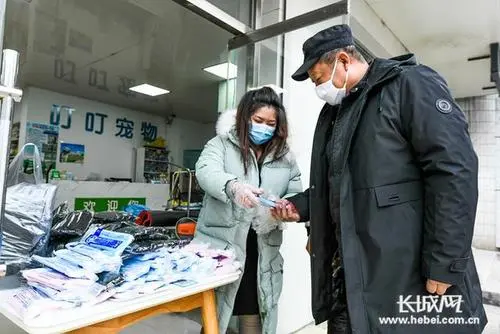withmask: (294, 29, 375, 110), (234, 88, 291, 156)
